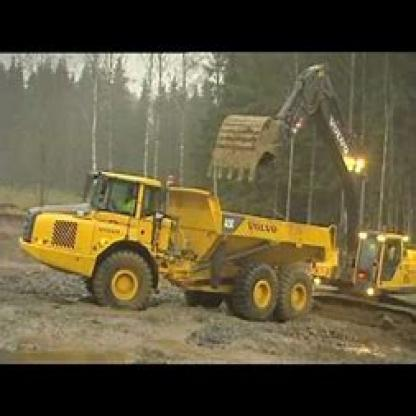dump_truck: (21, 162, 367, 324)
